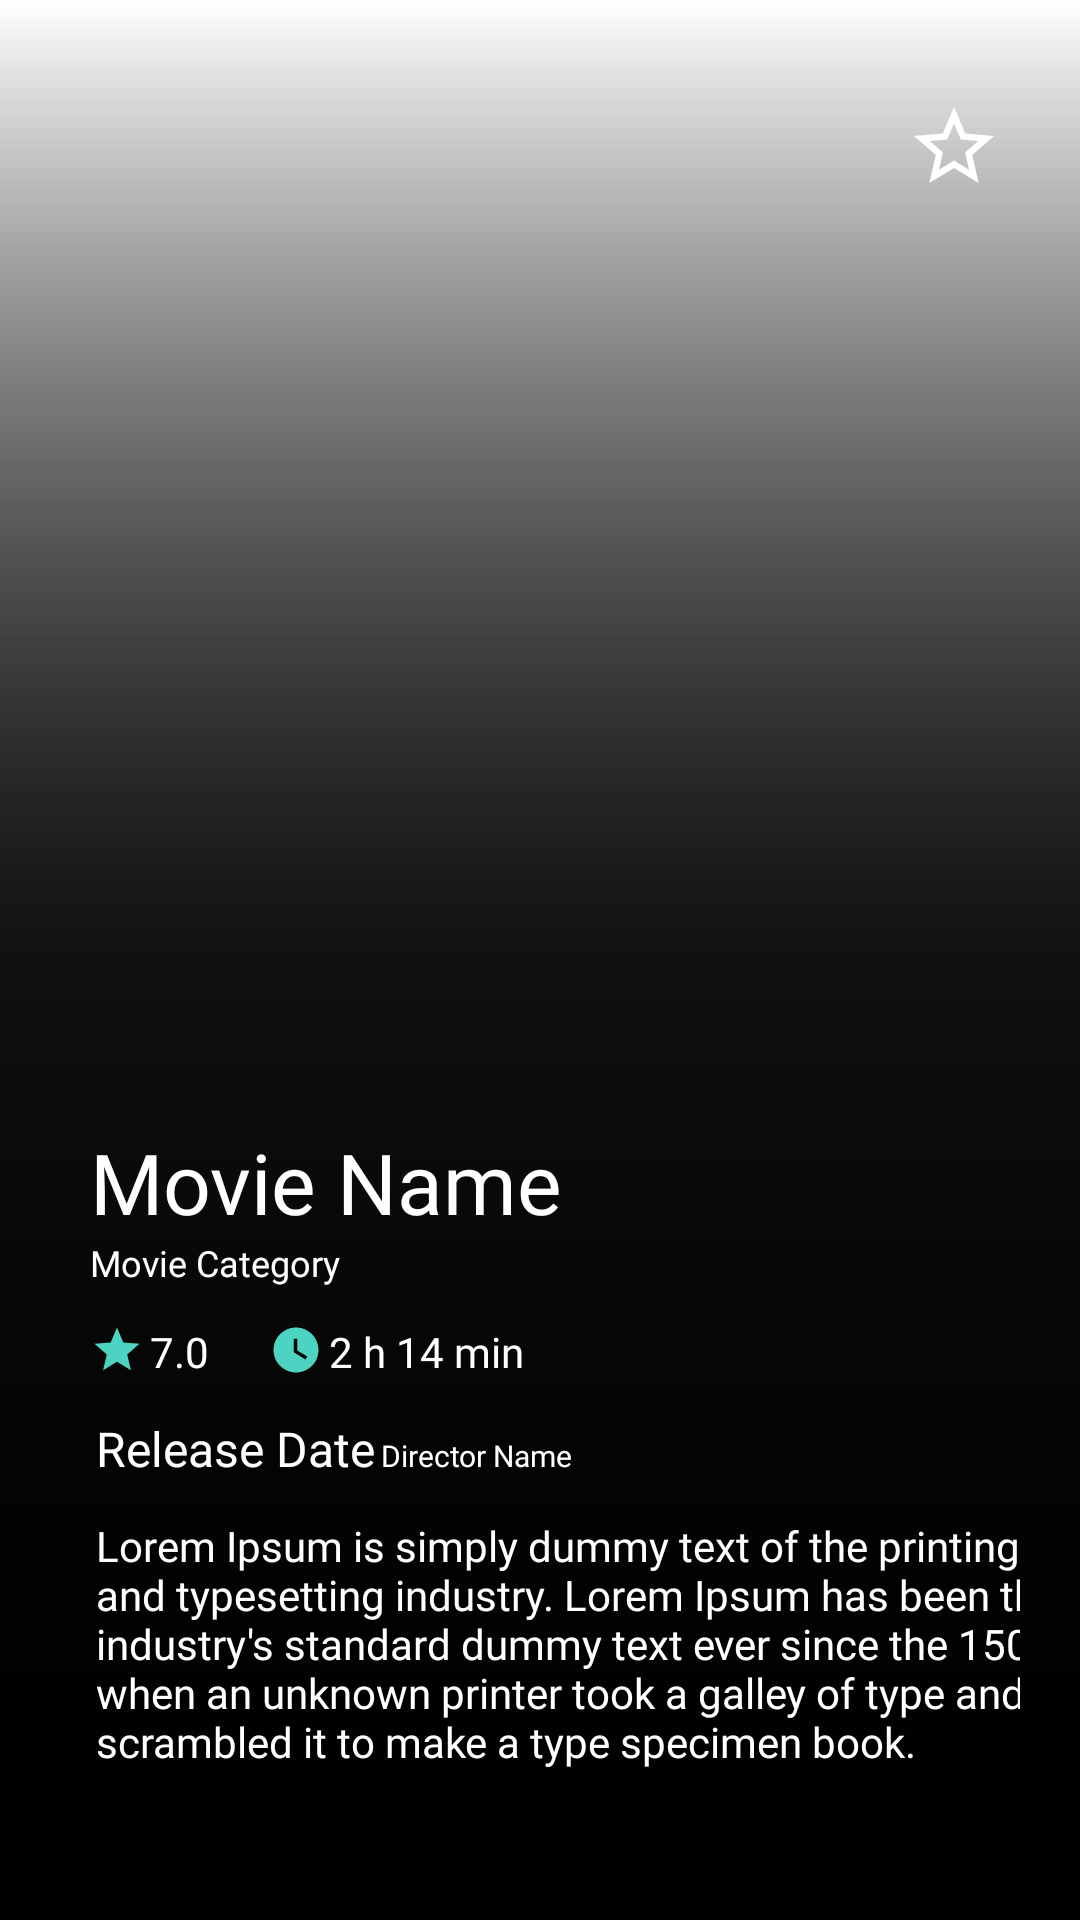

Icon bounding boxes for this 1080*1920 phone screenshot, format (x1, y1, x2, y2):
star: (95, 1328, 139, 1370)
watch later: (273, 1327, 319, 1373)
